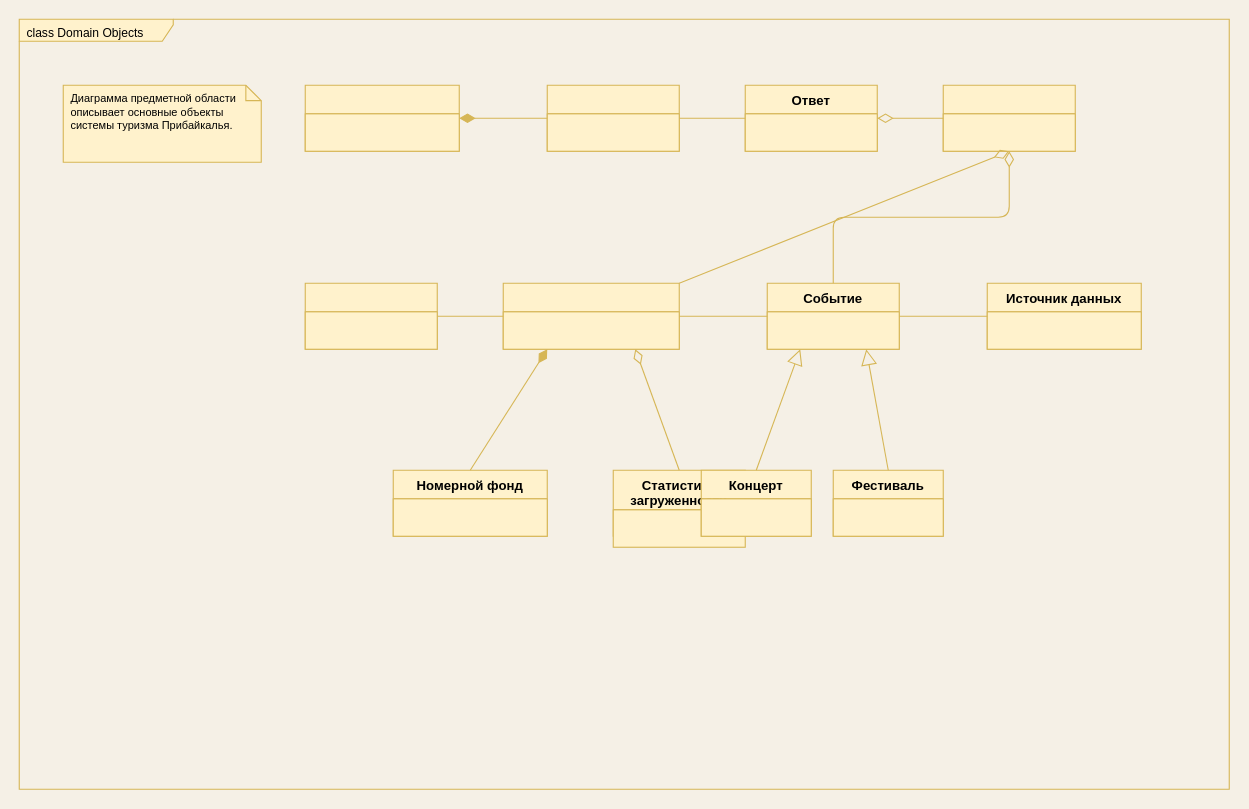
This 1249x809 diagram has some shape labels left out. Each missing label, with the box of its shape:
Запрос: (546, 84, 679, 151)
История запросов: (304, 84, 459, 151)
Прогноз: (942, 84, 1075, 151)
Район: (304, 282, 437, 349)
Средство размещения: (502, 282, 679, 349)
